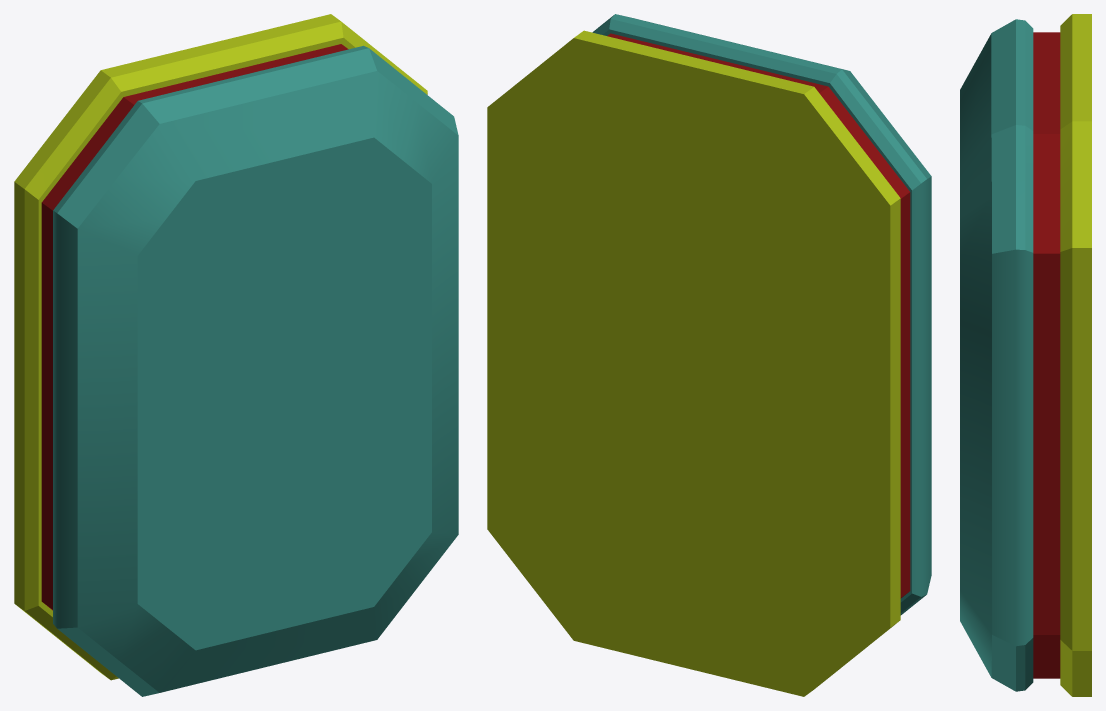
File: ElementoPared.fbx
The picture shows the model from 3 angles, left to right: view 1: azimuth 30°, elevation 25°; view 2: azimuth 150°, elevation 25°; view 3: azimuth 270°, elevation 25°; orthographic projection. The views are drawn at different scales.
Visible parts, largest first — view 1: Box027; view 2: Box027; view 3: Box027.
Boxes of the visible parts, x1,y1,x2,y2 form: Box027: (14,14,458,696); Box027: (487,14,931,696); Box027: (960,14,1091,696).
Bounding box in the file's own units: 0.7401 × 1.06 × 0.2194.
